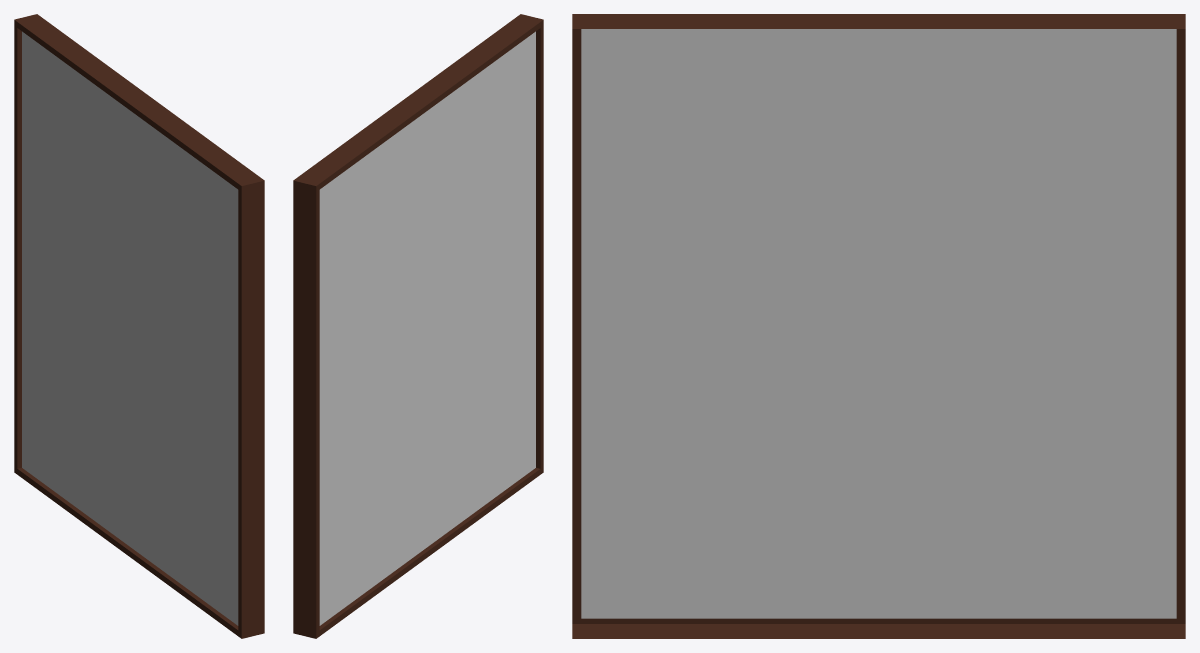
File: mirror.fbx
3 renders of one model, left to right at view 1: azimuth 30°, elevation 25°; view 2: azimuth 150°, elevation 25°; view 3: azimuth 270°, elevation 25°, orthographic. The views are drawn at different scales.
Visible parts, largest first — view 1: Plane; view 2: Plane; view 3: Plane.
Boxes of the visible parts, bbox=[...] form: Plane: bbox=[14, 14, 264, 638]; Plane: bbox=[293, 14, 543, 638]; Plane: bbox=[572, 14, 1185, 638].
Bounding box in the file's own units: 6.39 × 120 × 109.
